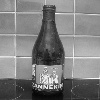beer: (30, 5, 67, 97)
